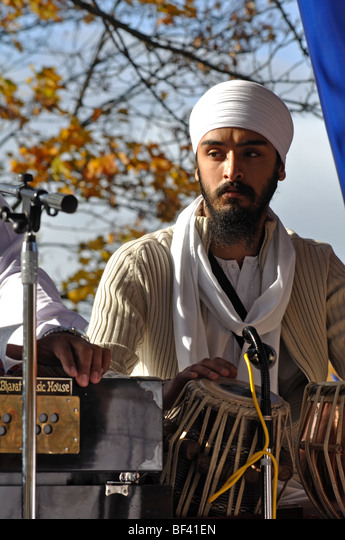tabla: (163, 378, 286, 509), (300, 380, 344, 511)
